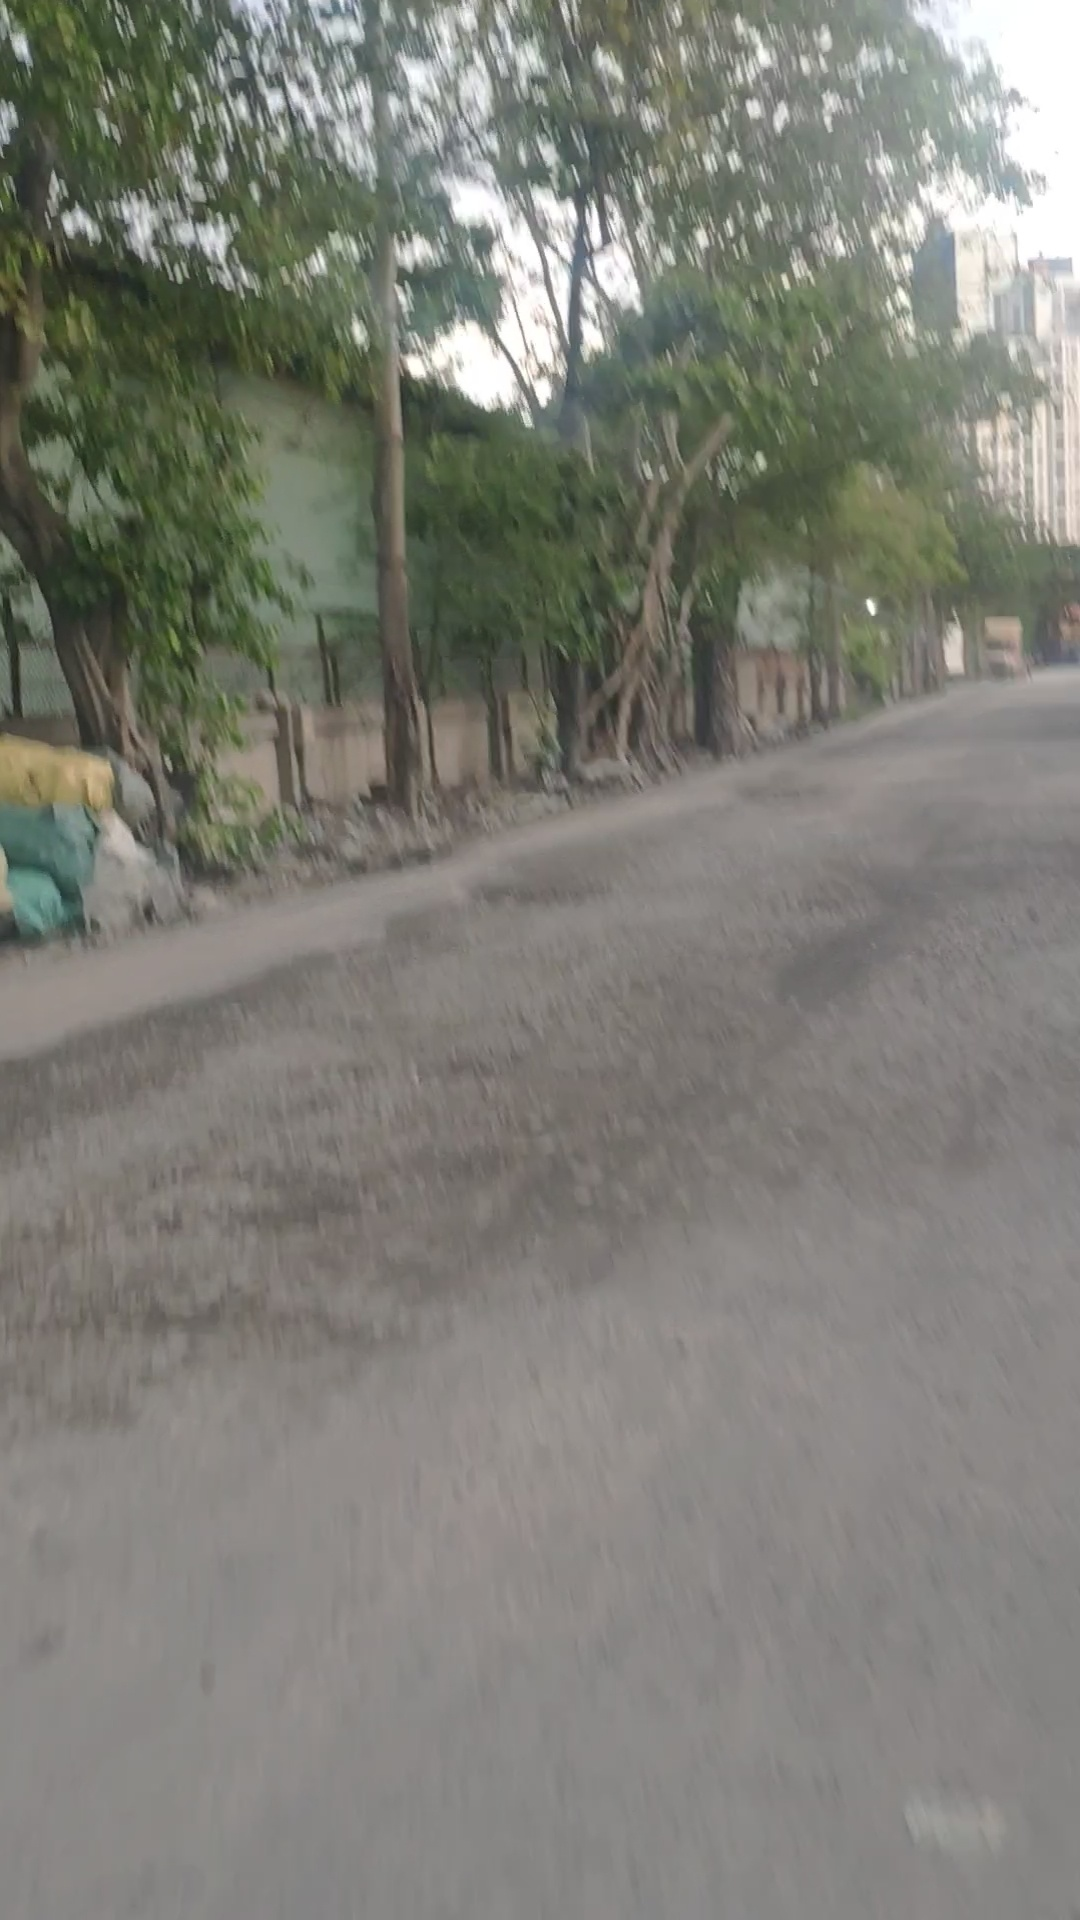hole: (94, 1139, 381, 1253), (702, 855, 895, 939), (475, 877, 613, 916), (723, 775, 843, 806)
